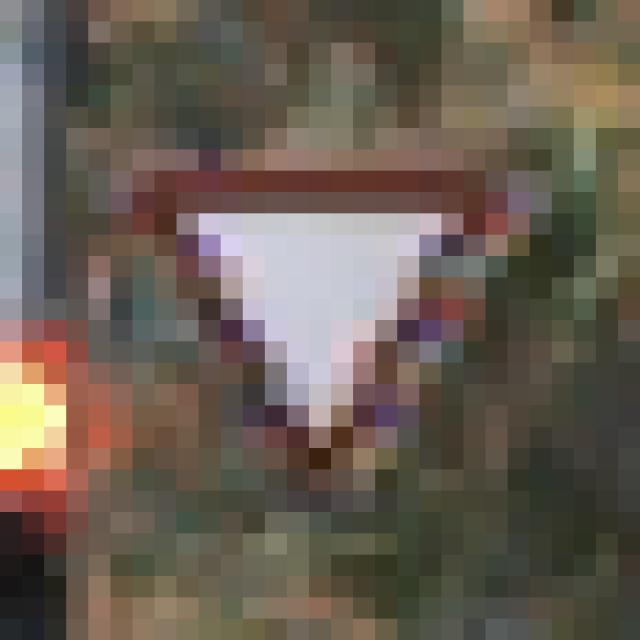Give Way: (111, 129, 531, 534)
